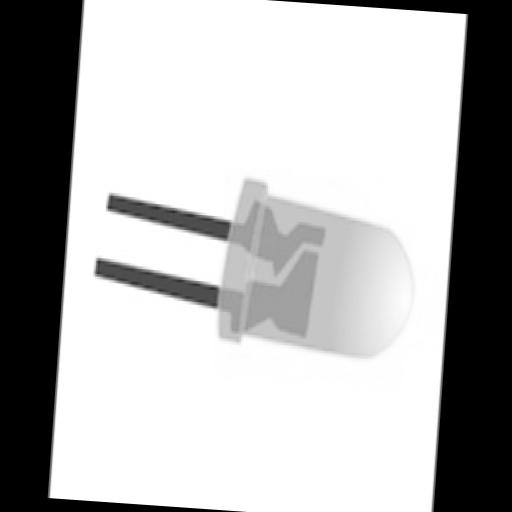LED: (88, 163, 422, 362)
